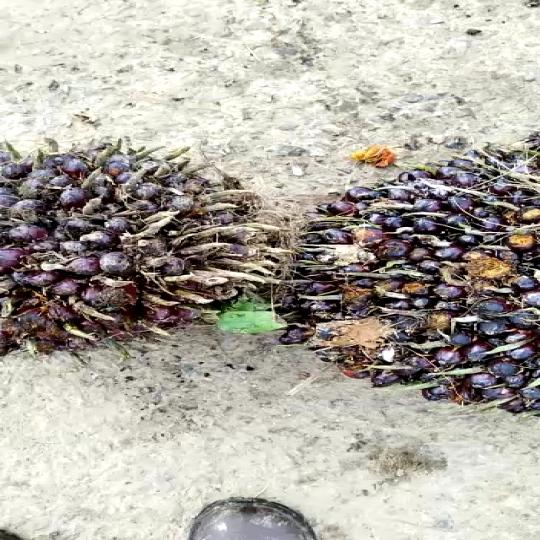kurang masak: (0, 147, 309, 371), (295, 144, 540, 420)
